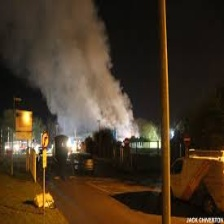smoke: (17, 6, 134, 130)
